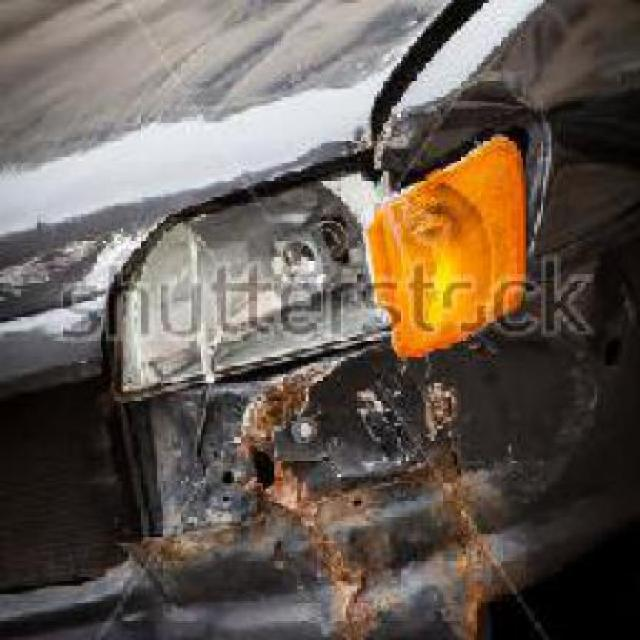damaged-head-light: (86, 136, 512, 376)
dent-or-scratch: (175, 383, 516, 637)
